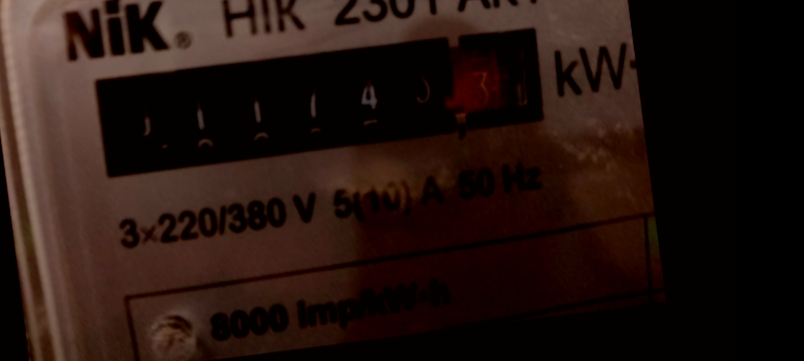0: (122, 90, 156, 141)
1: (241, 77, 268, 127), (186, 85, 209, 134)
3: (404, 58, 438, 108), (465, 64, 494, 111)
4: (350, 63, 384, 115)
7: (297, 72, 327, 122)
screen: (77, 13, 554, 189)
